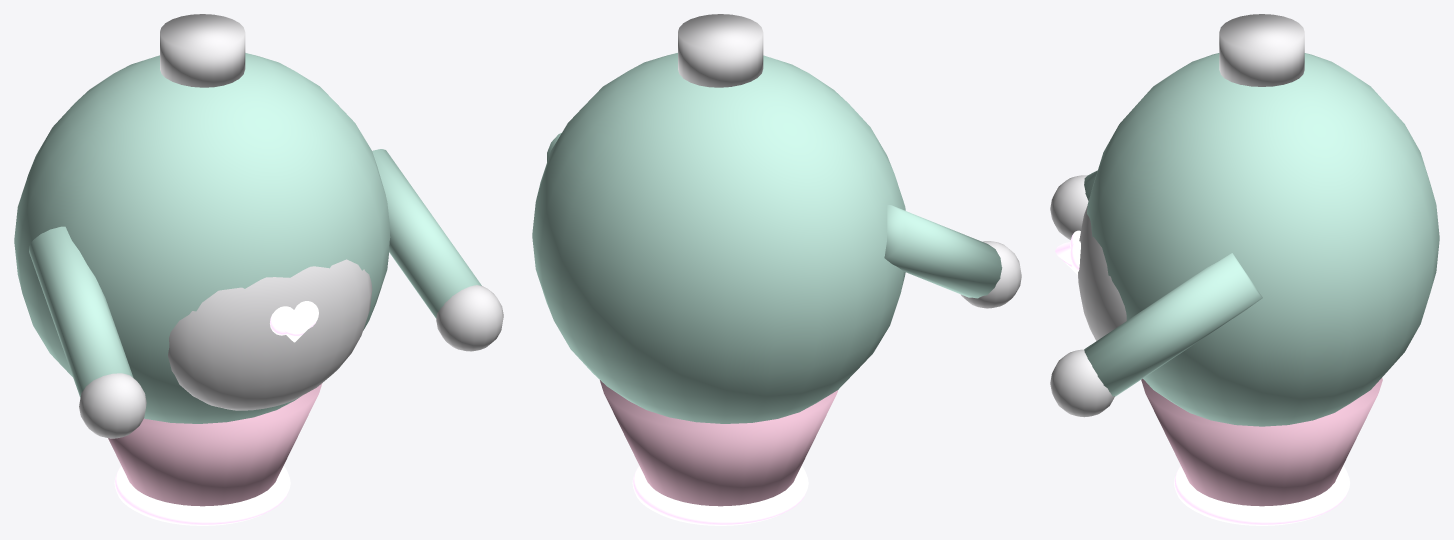
File: pip_body.glb
3 views of the same model, side by side, from view 1: azimuth 30°, elevation 25°; view 2: azimuth 150°, elevation 25°; view 3: azimuth 270°, elevation 25° (orthographic).
Visible parts, largest first — view 1: Body, Belly, Base, Arm-1, Arm1, Neck.001, BaseGlow, Hand-1.001, Hand1.001; view 2: Body, Base, Arm-1, Neck.001, BaseGlow, Hand-1.001; view 3: Body, Base, Arm1, Neck.001, BaseGlow, Belly, Hand1.001, Hand-1.001.
Part boxes in pixels (x1,y1,x2,y2): Body: [14, 53, 390, 423]; Belly: [168, 259, 372, 410]; Base: [108, 383, 322, 506]; Arm-1: [29, 226, 133, 397]; Arm1: [372, 149, 481, 318]; Neck.001: [160, 14, 245, 87]; BaseGlow: [114, 466, 290, 525]; Hand-1.001: [79, 373, 146, 438]; Hand1.001: [436, 285, 503, 351]; Body: [532, 53, 905, 423]; Base: [600, 380, 837, 506]; Arm-1: [884, 205, 1002, 298]; Neck.001: [678, 14, 763, 87]; BaseGlow: [632, 466, 808, 525]; Hand-1.001: [960, 241, 1021, 308]; Body: [1087, 53, 1439, 426]; Base: [1141, 378, 1382, 506]; Arm1: [1084, 253, 1262, 396]; Neck.001: [1219, 14, 1304, 86]; BaseGlow: [1174, 466, 1349, 525]; Belly: [1078, 206, 1126, 340]; Hand1.001: [1050, 349, 1114, 417]; Hand-1.001: [1050, 175, 1088, 239].
Size of the model in its own units: 0.676 by 0.7133 by 0.548.
